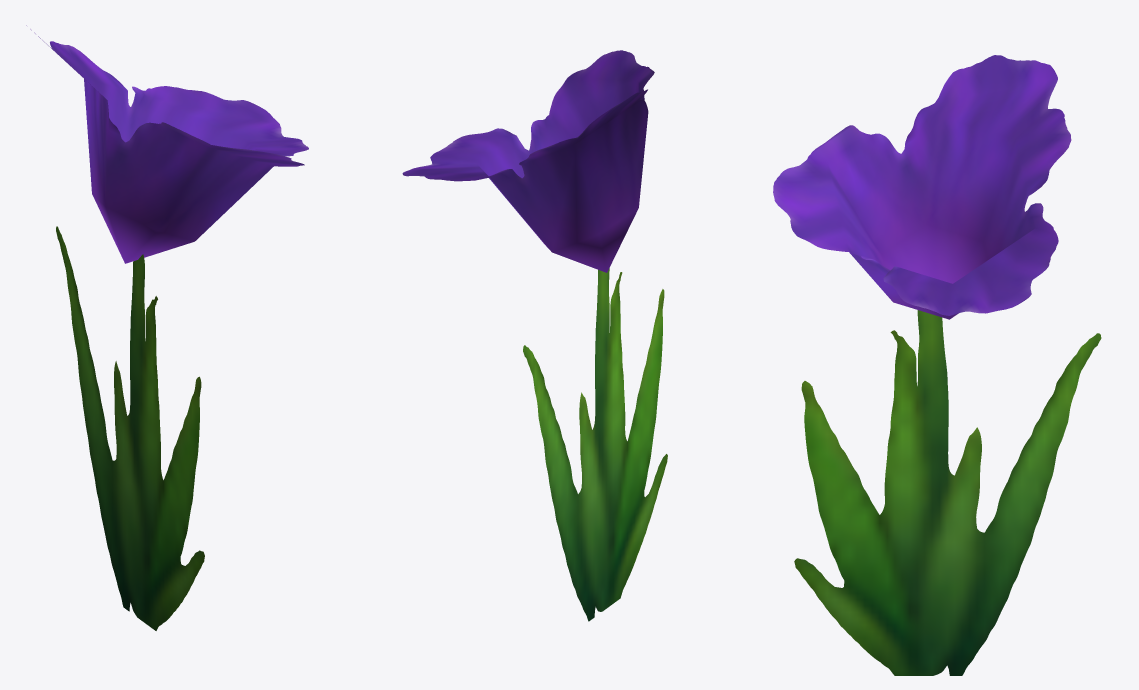
Rendered from flower_02.FBX.
The picture shows the model from 3 angles, left to right: view 1: azimuth 30°, elevation 25°; view 2: azimuth 150°, elevation 25°; view 3: azimuth 270°, elevation 25°; orthographic projection. The views are drawn at different scales.
Visible parts, largest first — view 1: Plane018; view 2: Plane018; view 3: Plane018.
Part boxes in pixels (<box>): Plane018: <box>26,25,308,630</box>; Plane018: <box>402,50,667,621</box>; Plane018: <box>773,55,1101,675</box>.
Size of the model in its own units: 0.4057 by 0.7915 by 0.4474.
